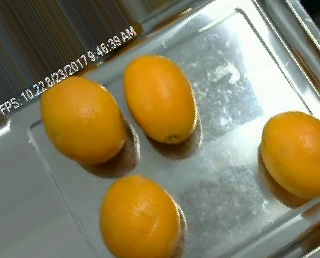Orange: (39, 75, 124, 162), (99, 174, 181, 257), (124, 54, 197, 143), (261, 109, 320, 198)
